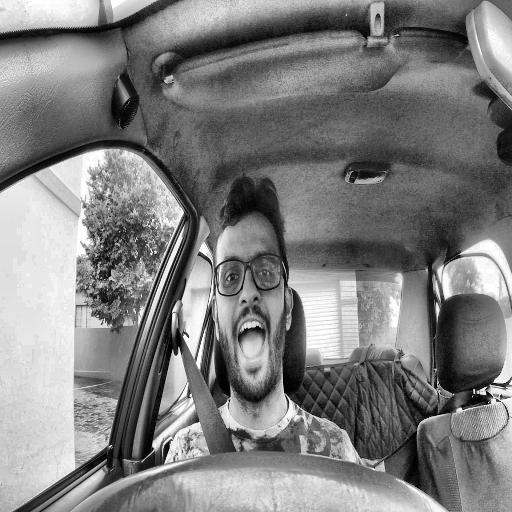awake: (212, 177, 294, 401)
